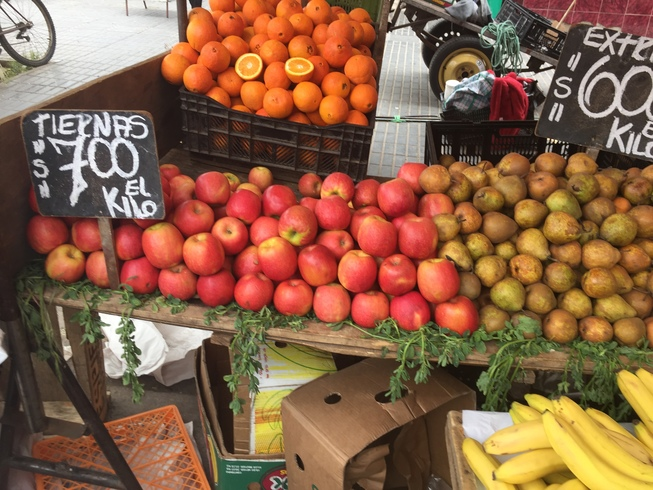precio: (15, 104, 180, 245), (536, 18, 653, 158)
